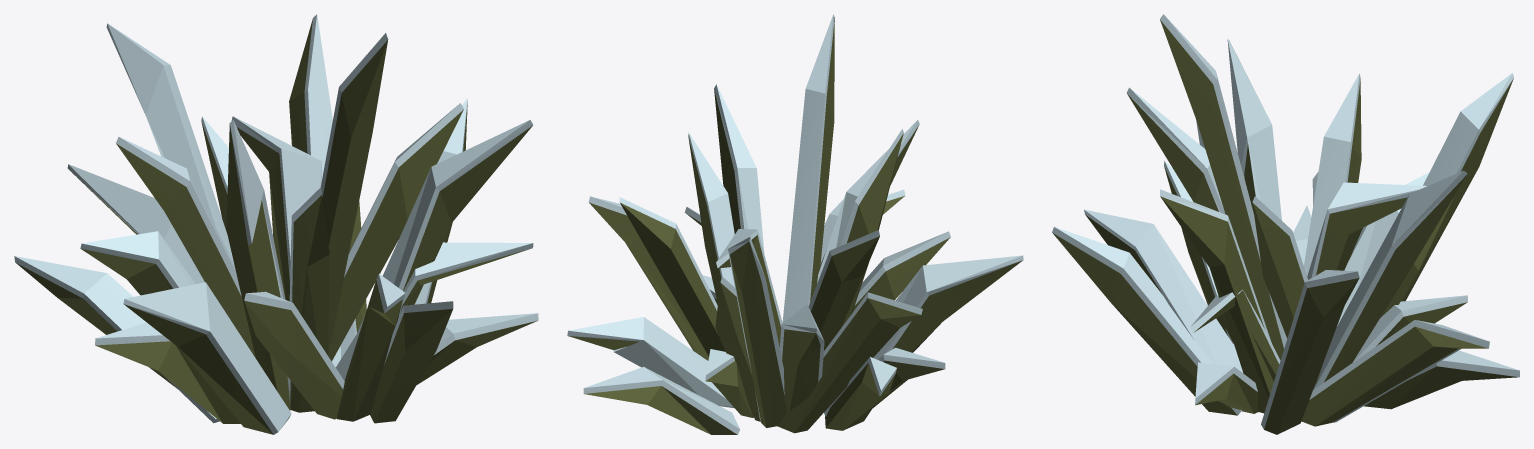
File: Cesped_Grande01.glb
3 renders of one model, left to right at view 1: azimuth 30°, elevation 25°; view 2: azimuth 150°, elevation 25°; view 3: azimuth 270°, elevation 25°, orthographic. The views are drawn at different scales.
Parts seen in each view (by area): view 1: SM_Env_Grass_Large_01_Snow; view 2: SM_Env_Grass_Large_01_Snow; view 3: SM_Env_Grass_Large_01_Snow.
Boxes of the visible parts, x1=… form: SM_Env_Grass_Large_01_Snow: x1=14, y1=14, x2=538, y2=434; SM_Env_Grass_Large_01_Snow: x1=567, y1=14, x2=1023, y2=434; SM_Env_Grass_Large_01_Snow: x1=1052, y1=14, x2=1519, y2=434.
Bounding box in the file's own units: 1.77 × 1.62 × 1.79.
1 material, 1 textured.
